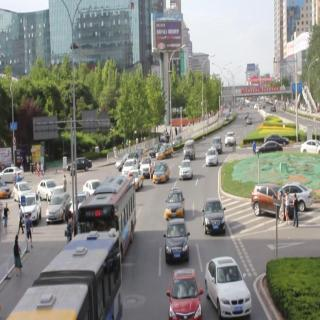BigCar: (7, 224, 128, 320), (81, 176, 138, 256)
Car: (204, 257, 258, 320), (168, 267, 204, 320), (249, 179, 290, 223), (200, 190, 231, 242), (165, 216, 192, 262), (279, 174, 312, 211), (163, 183, 187, 219), (22, 191, 44, 226), (254, 139, 289, 159), (34, 178, 63, 198), (154, 156, 172, 188), (66, 155, 94, 174), (300, 137, 320, 162), (48, 198, 68, 222), (127, 165, 147, 189), (176, 159, 194, 184), (2, 162, 24, 182), (14, 180, 33, 203), (178, 140, 199, 160), (84, 174, 103, 196), (115, 154, 142, 167), (0, 174, 11, 202), (142, 157, 154, 178), (207, 148, 220, 167), (224, 126, 235, 146), (210, 135, 222, 152)
